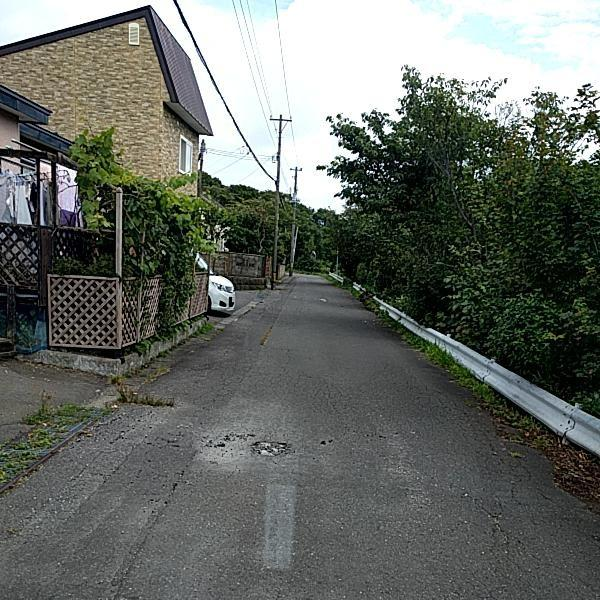pothole: (251, 440, 289, 458)
